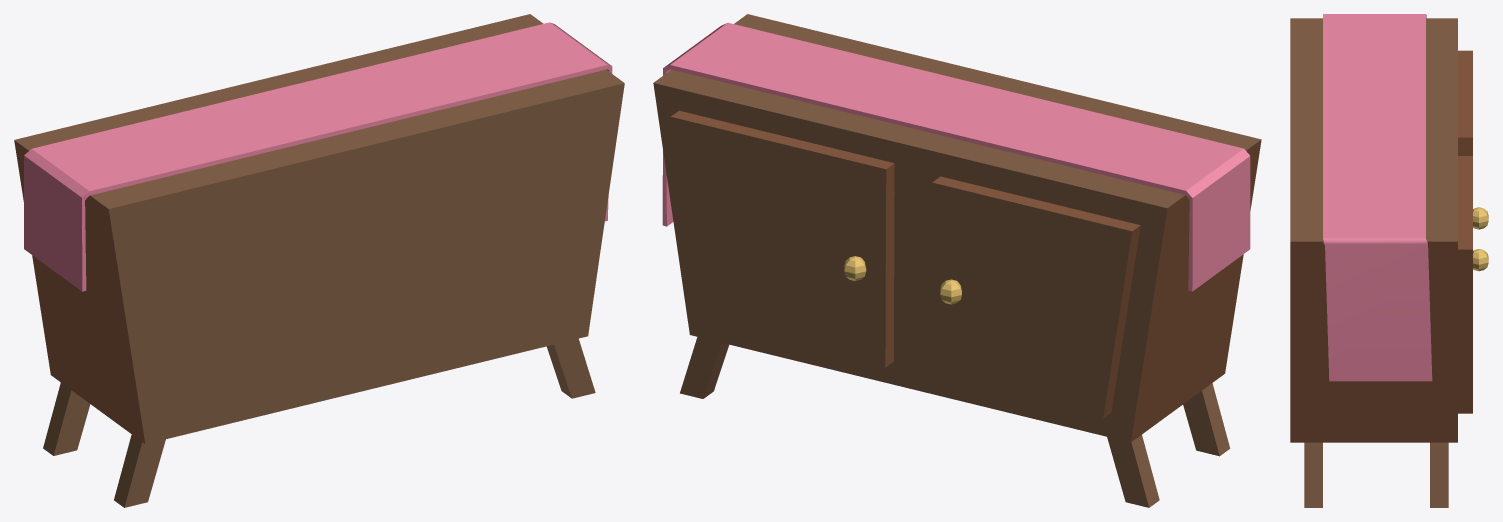
The model's file is SideCabinet_Mesh.fbx.
3 renders of one model, left to right at view 1: azimuth 30°, elevation 25°; view 2: azimuth 150°, elevation 25°; view 3: azimuth 270°, elevation 25°, orthographic. The views are drawn at different scales.
Visible parts, largest first — view 1: pCube21; view 2: pCube21; view 3: pCube21.
Boxes of the visible parts, box(x1,y1,x2,y2) form: pCube21: box(14, 14, 624, 507); pCube21: box(653, 14, 1261, 507); pCube21: box(1290, 14, 1488, 507).
Size of the model in its own units: 32.49 by 18.41 by 11.86.
